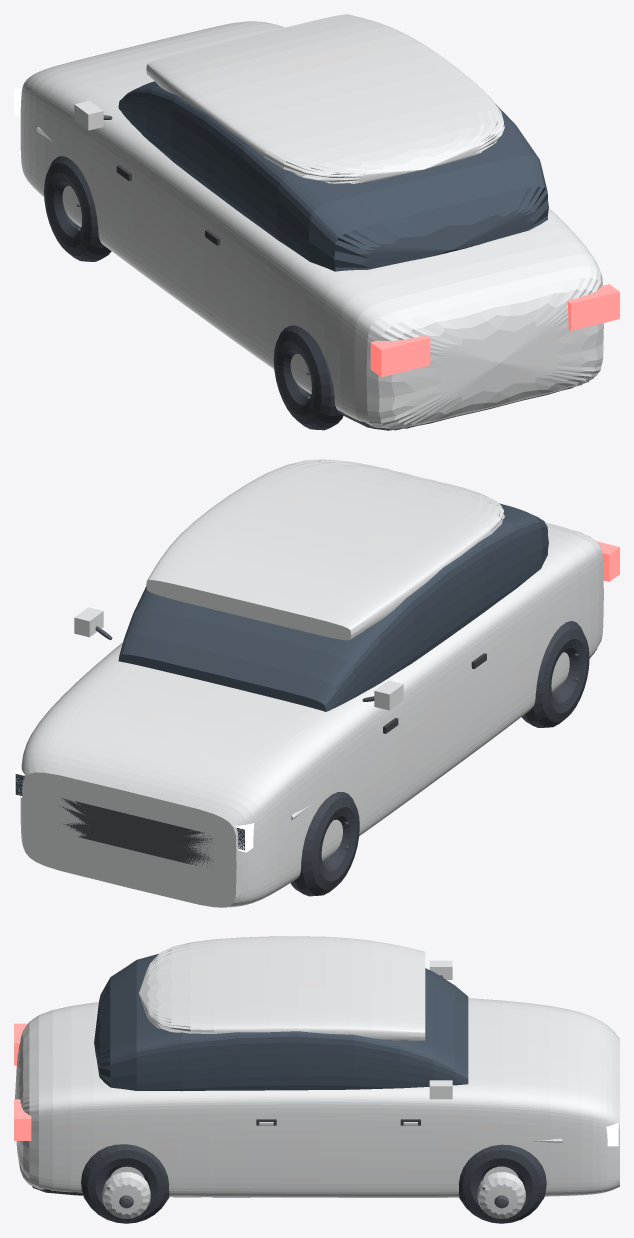
The model's file is car.glb.
3 renders of one model, top to bottom at view 1: azimuth 30°, elevation 25°; view 2: azimuth 150°, elevation 25°; view 3: azimuth 270°, elevation 25°, orthographic. The views are drawn at different scales.
Visible parts, largest first — view 1: Hatch, WheelRL, WheelFL; view 2: Hatch, WheelFL, WheelRL; view 3: Hatch, WheelRR, WheelFR.
Part boxes in pixels (bbox=[...]): Hatch: bbox=[14, 14, 619, 430]; WheelRL: bbox=[273, 325, 343, 430]; WheelFL: bbox=[44, 156, 111, 261]; Hatch: bbox=[14, 459, 619, 907]; WheelFL: bbox=[290, 792, 359, 896]; WheelRL: bbox=[522, 621, 589, 727]; Hatch: bbox=[14, 936, 619, 1197]; WheelRR: bbox=[81, 1144, 169, 1223]; WheelFR: bbox=[458, 1144, 546, 1223].
Bounding box in the file's own units: 2.06 × 1.49 × 4.2.
